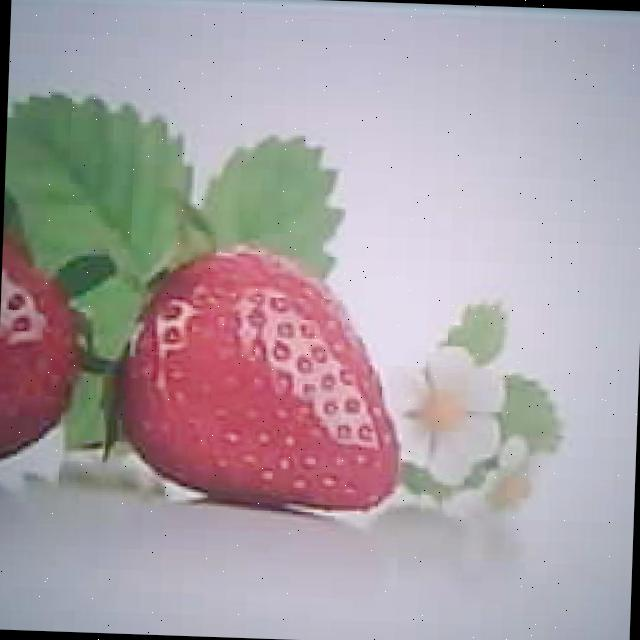strawberry: (114, 242, 406, 514)
